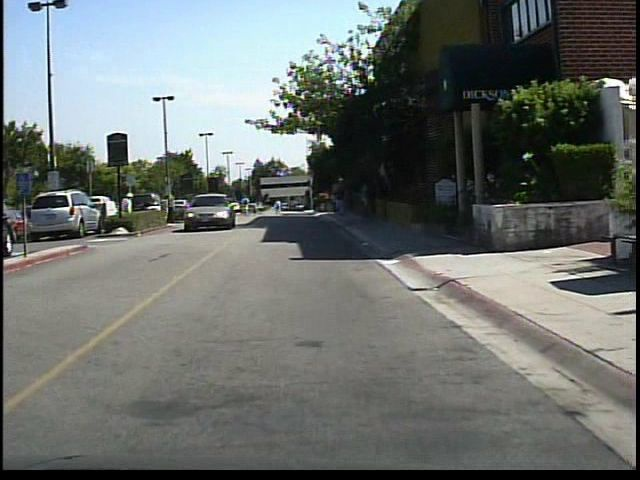person: (119, 191, 134, 229), (125, 188, 138, 230), (166, 186, 179, 225), (241, 190, 255, 220), (341, 178, 342, 218)
